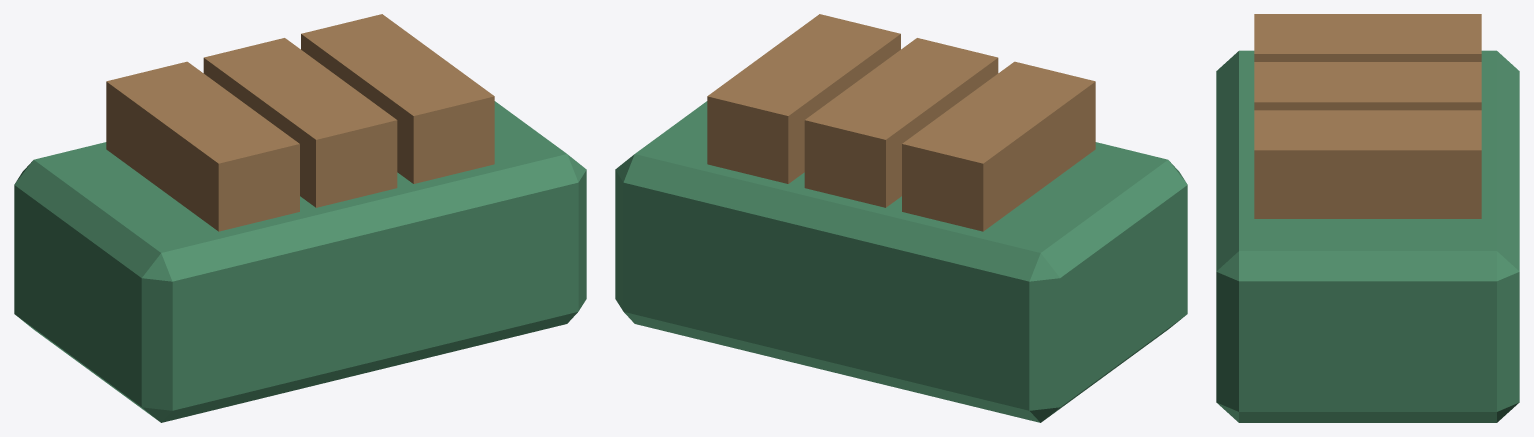
The model's file is set_floor_brush.glb.
The picture shows the model from 3 angles, left to right: view 1: azimuth 30°, elevation 25°; view 2: azimuth 150°, elevation 25°; view 3: azimuth 270°, elevation 25°; orthographic projection.
Parts seen in each view (by area): view 1: set_floor_brush; view 2: set_floor_brush; view 3: set_floor_brush.
Part boxes in pixels (x1=…): set_floor_brush: x1=14, y1=14, x2=586, y2=422; set_floor_brush: x1=615, y1=14, x2=1187, y2=422; set_floor_brush: x1=1216, y1=14, x2=1519, y2=422.
Size of the model in its own units: 0.274 by 0.14 by 0.16.
